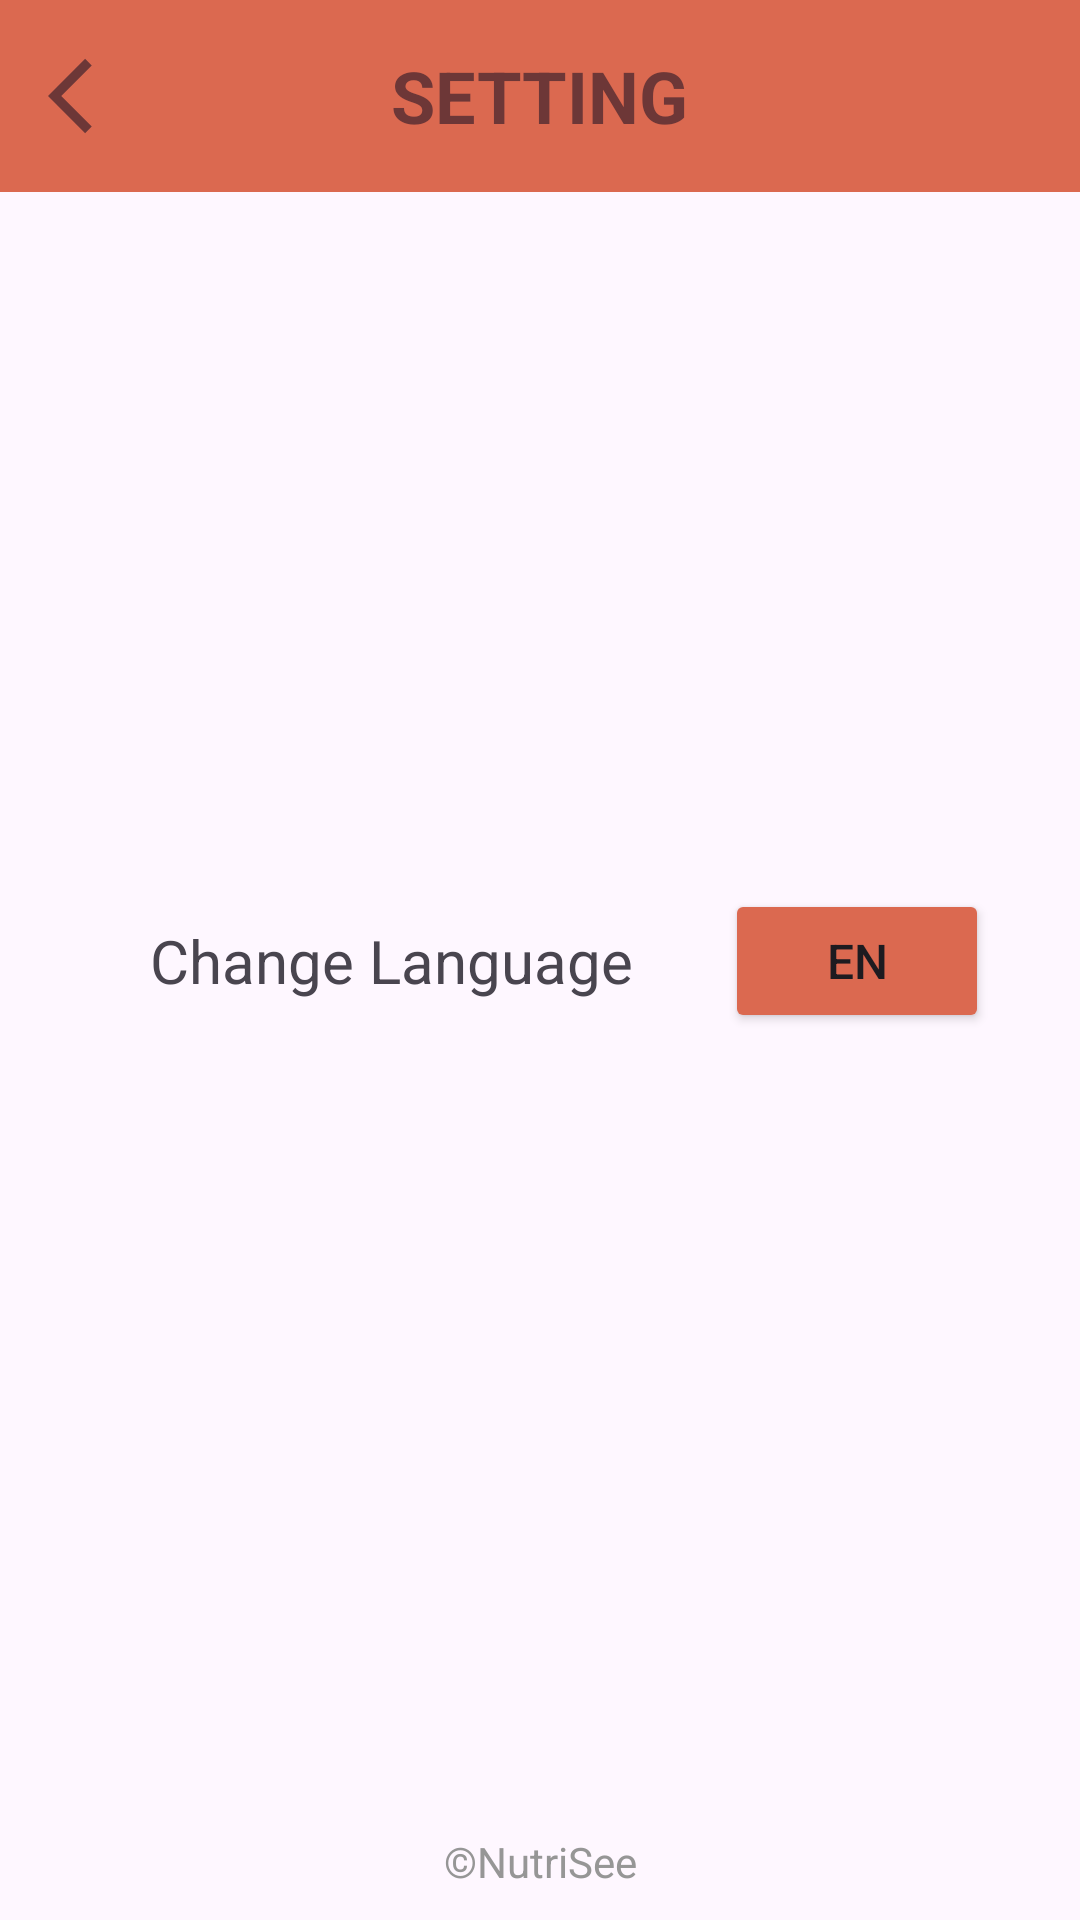

Locate icon controls on the screen. Image size 1080 × 1920, boxes as {"x1": x1, "y1": y1, "x2": x2, "y2": y2}.
back: {"x1": 48, "y1": 59, "x2": 92, "y2": 133}
